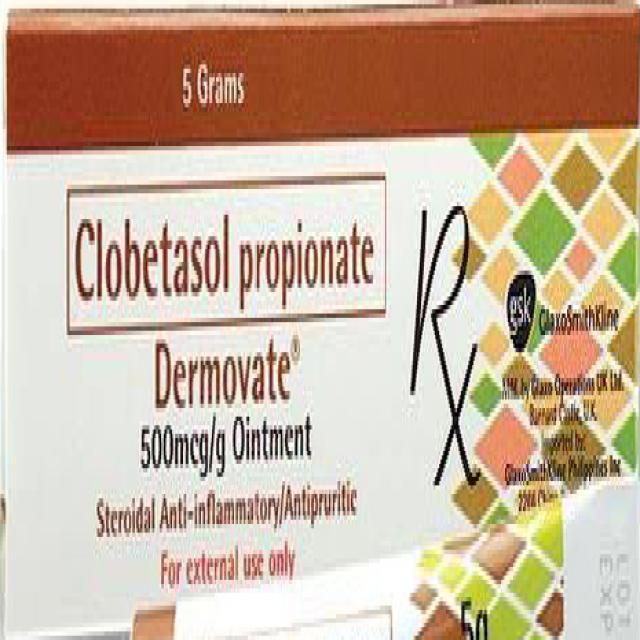drug-name: (142, 338, 308, 408)
